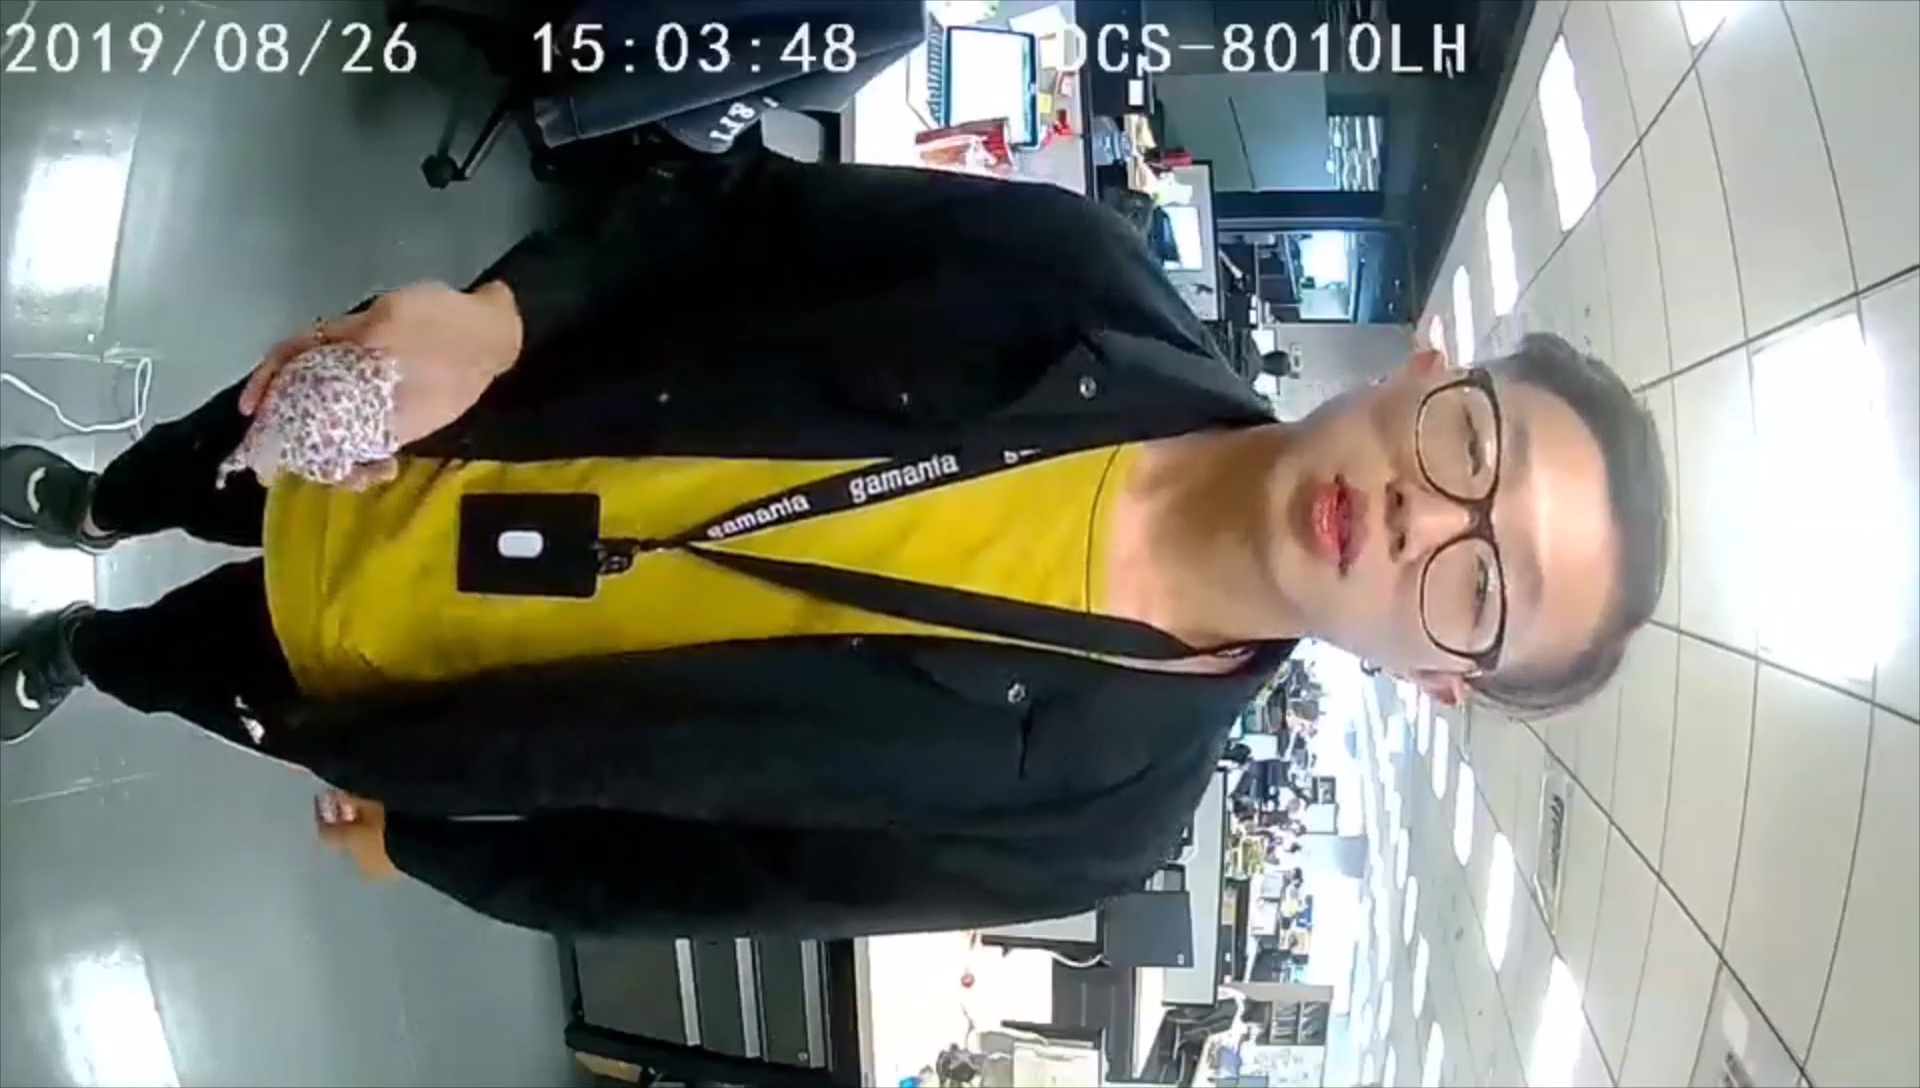pig: (203, 342, 405, 497)
